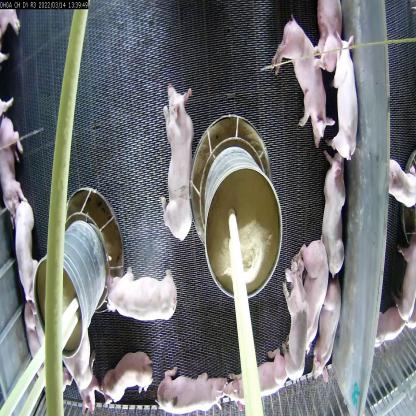Pig: (161, 82, 204, 247), (277, 8, 326, 142), (105, 258, 179, 329), (233, 328, 290, 416), (324, 152, 356, 294), (153, 357, 225, 415), (284, 255, 315, 389), (332, 36, 366, 155), (312, 270, 346, 378), (3, 92, 32, 214), (98, 346, 159, 403), (301, 238, 327, 360), (69, 337, 104, 415), (15, 203, 38, 290)
